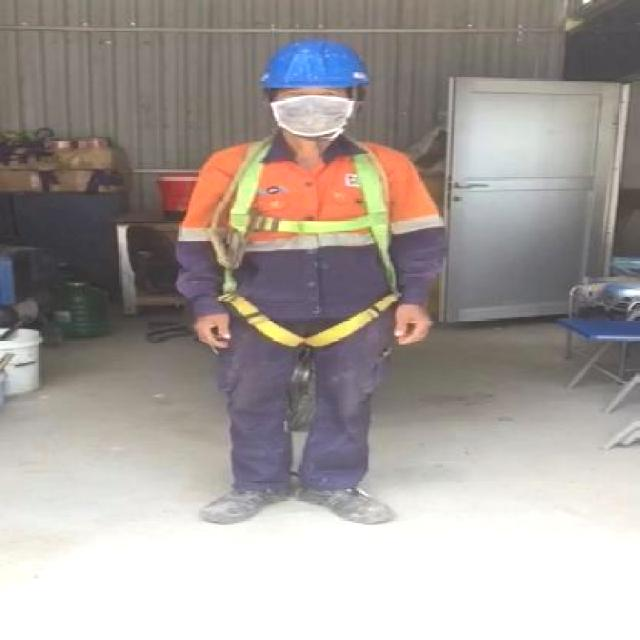face_mask: (267, 83, 359, 139)
hand_noglove: (186, 307, 239, 359), (387, 300, 438, 351)
head_helmet: (257, 37, 372, 92)
person: (171, 34, 454, 528)
shoes: (295, 474, 396, 524), (195, 473, 293, 524)
